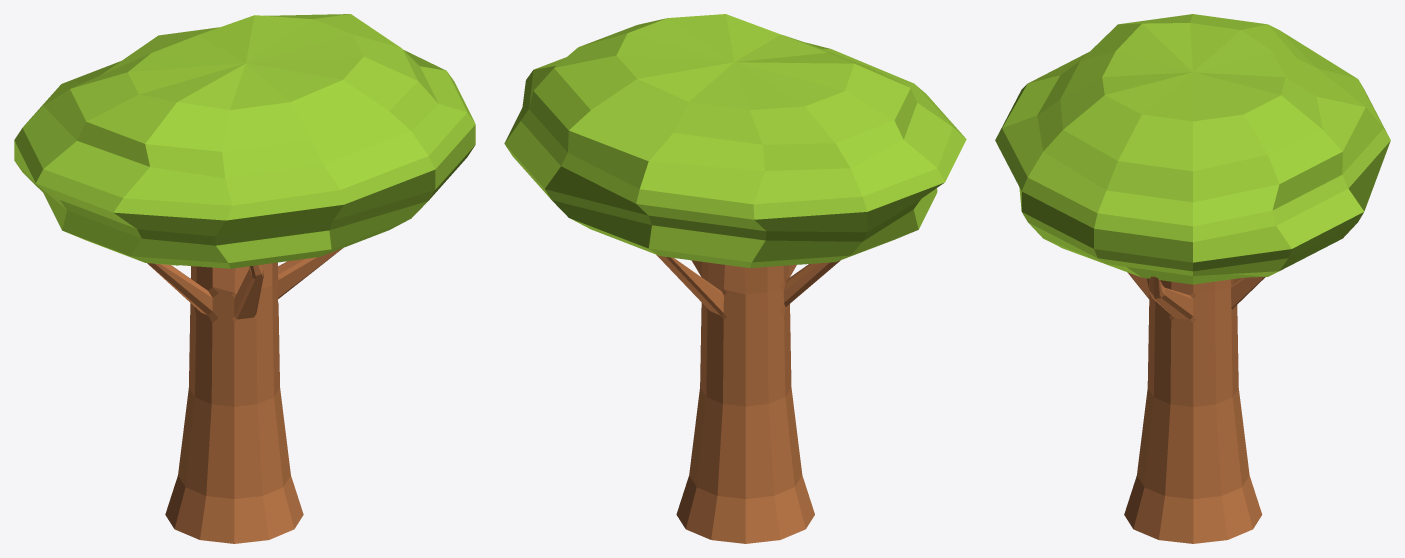
Rendered from Arbol.fbx.
The picture shows the model from 3 angles, left to right: view 1: azimuth 30°, elevation 25°; view 2: azimuth 150°, elevation 25°; view 3: azimuth 270°, elevation 25°; orthographic projection.
Visible parts, largest first — view 1: Arbol; view 2: Arbol; view 3: Arbol.
Part boxes in pixels (x1,y1,x2,y2): Arbol: [14, 14, 475, 543]; Arbol: [504, 14, 966, 543]; Arbol: [995, 14, 1390, 543].
Size of the model in its own units: 599 by 618 by 492.
